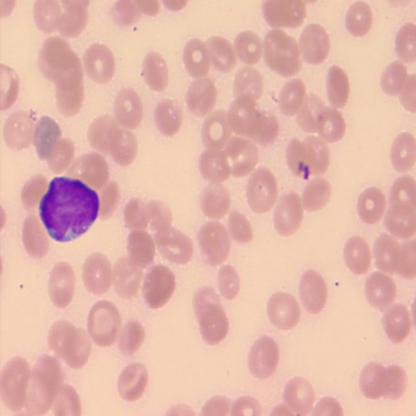Blast: (37, 170, 102, 247)
